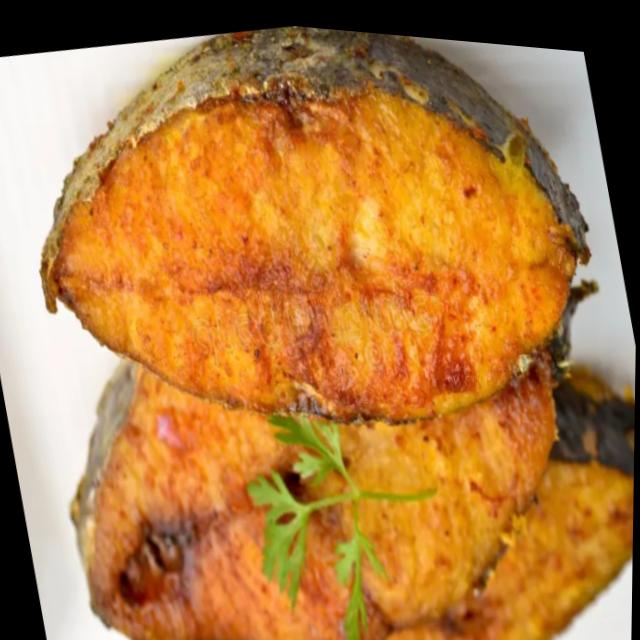FISH FRY: (48, 28, 635, 640)
